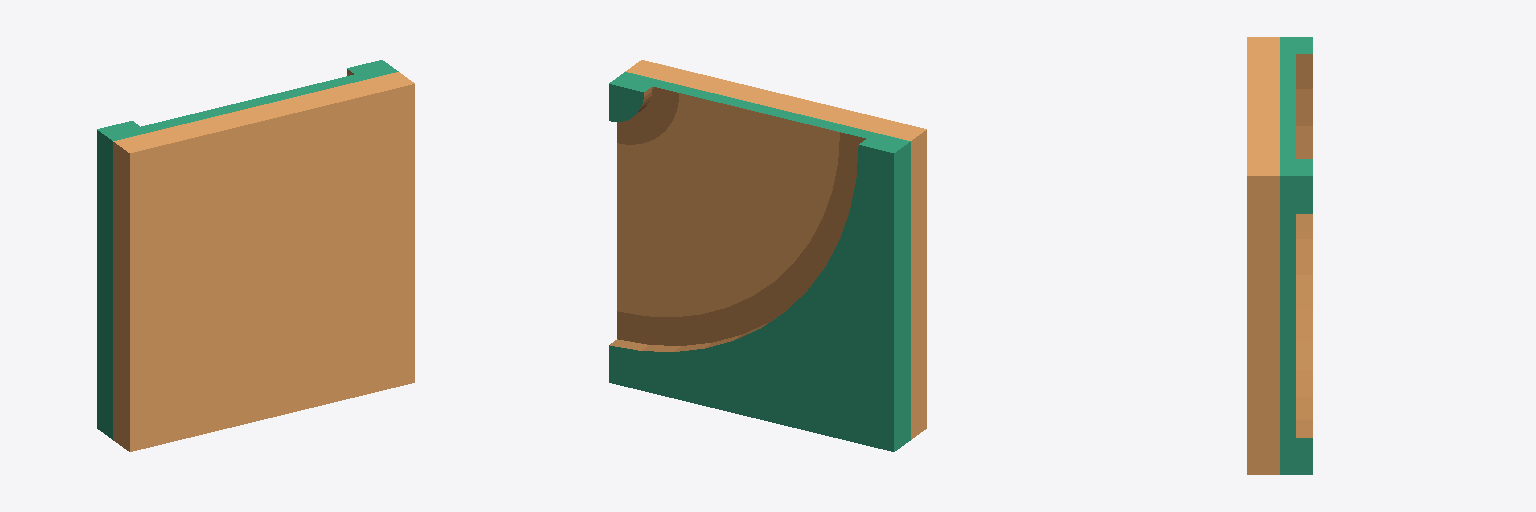
File: tile_cornerRound.003.obj
The picture shows the model from 3 angles: view 1: azimuth 30°, elevation 25°; view 2: azimuth 150°, elevation 25°; view 3: azimuth 270°, elevation 25°; orthographic projection.
Visible parts, largest first — view 1: tile_cornerRound.003; view 2: tile_cornerRound.003; view 3: tile_cornerRound.003.
Boxes of the visible parts, x1,y1,x2,y2 form: tile_cornerRound.003: [97, 60, 414, 451]; tile_cornerRound.003: [609, 60, 926, 451]; tile_cornerRound.003: [1247, 37, 1312, 474].
Bounding box in the file's own units: 1 × 1 × 0.2.